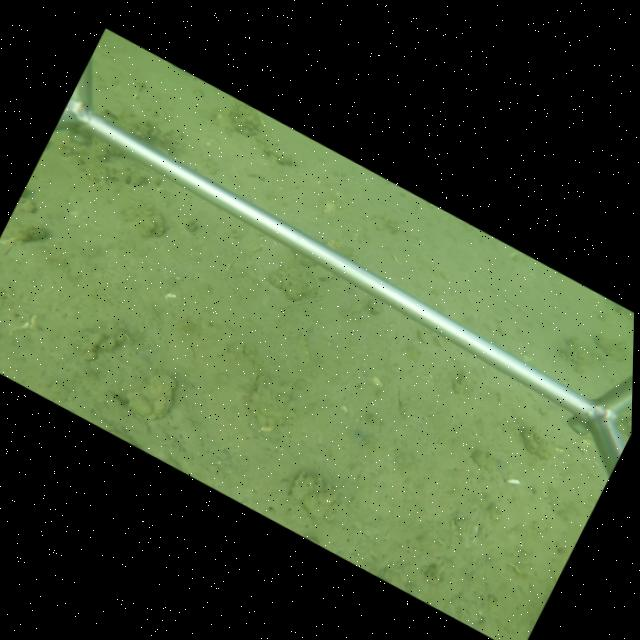Oyster-Closed: (258, 137, 296, 166)
Oyster-Indeterminate: (120, 373, 179, 424)
